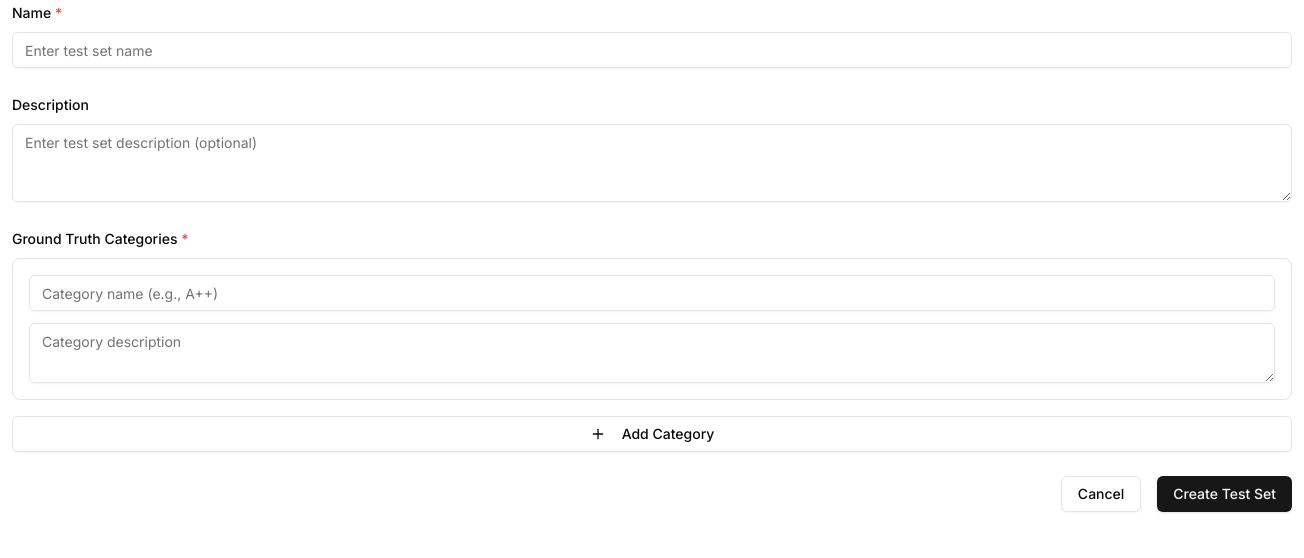
Scenario: TestSetForm › validates categories must have both name and description
The image size is (1304, 558).
Type "Test Set" into the field labelled "Name *". click: (652, 50)
box: [12, 32, 1292, 68]
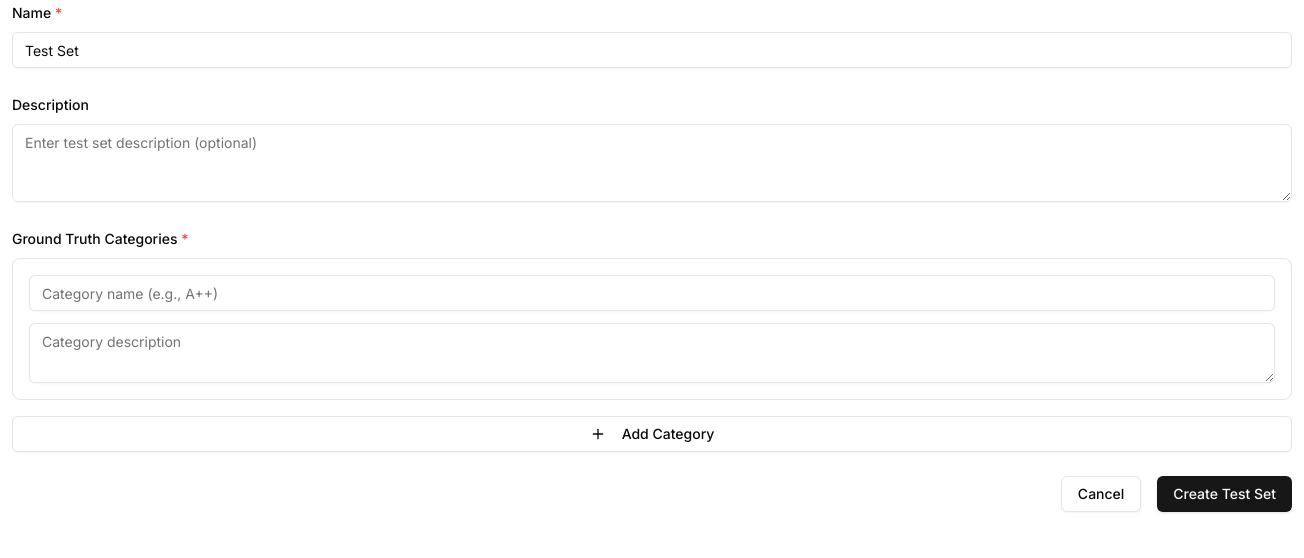
Type "A++" into the field with placeholder "Category name (e.g., A++)". click: (652, 293)
box: [29, 275, 1275, 311]
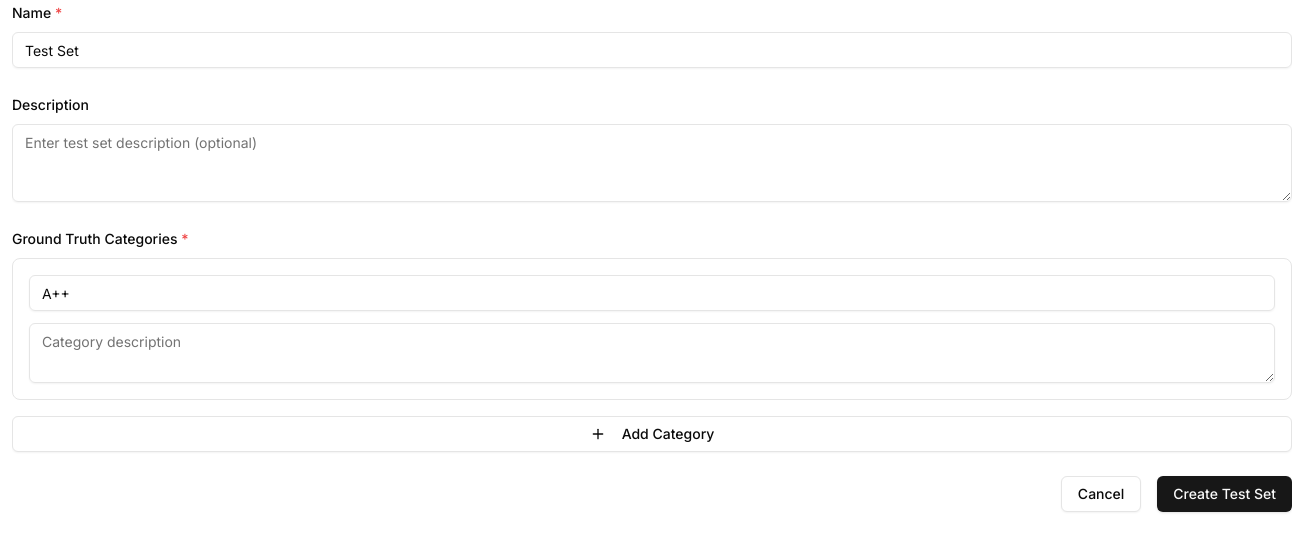
Click the button "Create Test Set". click: (1225, 494)
box: [1157, 476, 1292, 512]
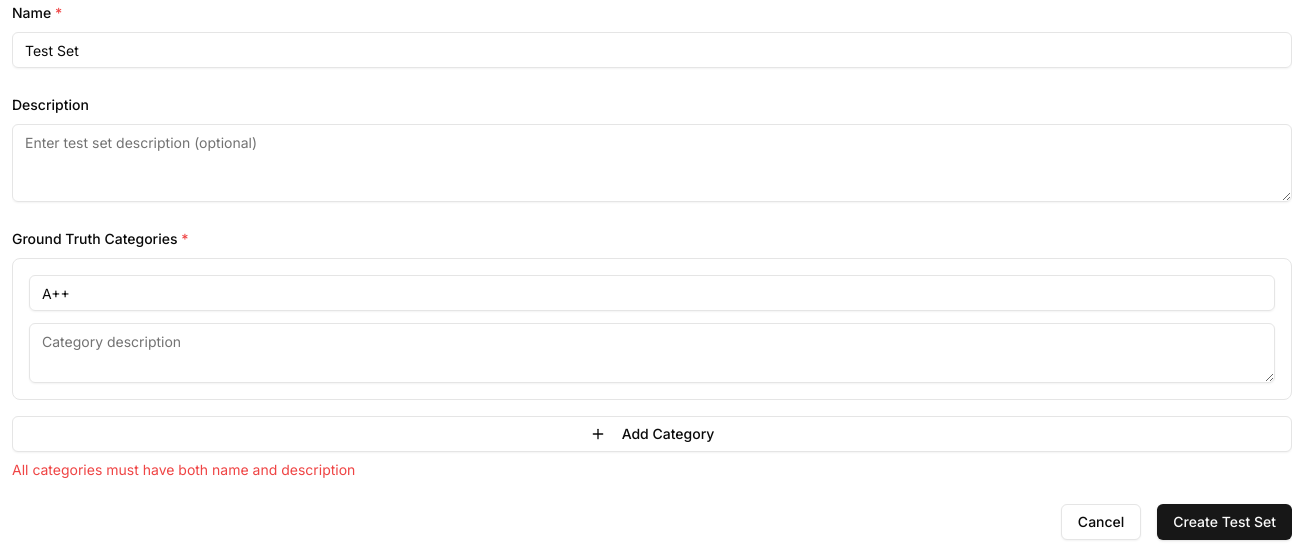
Expected: the text "All categories must have both name and description" is shown, [12, 461, 355, 478]
